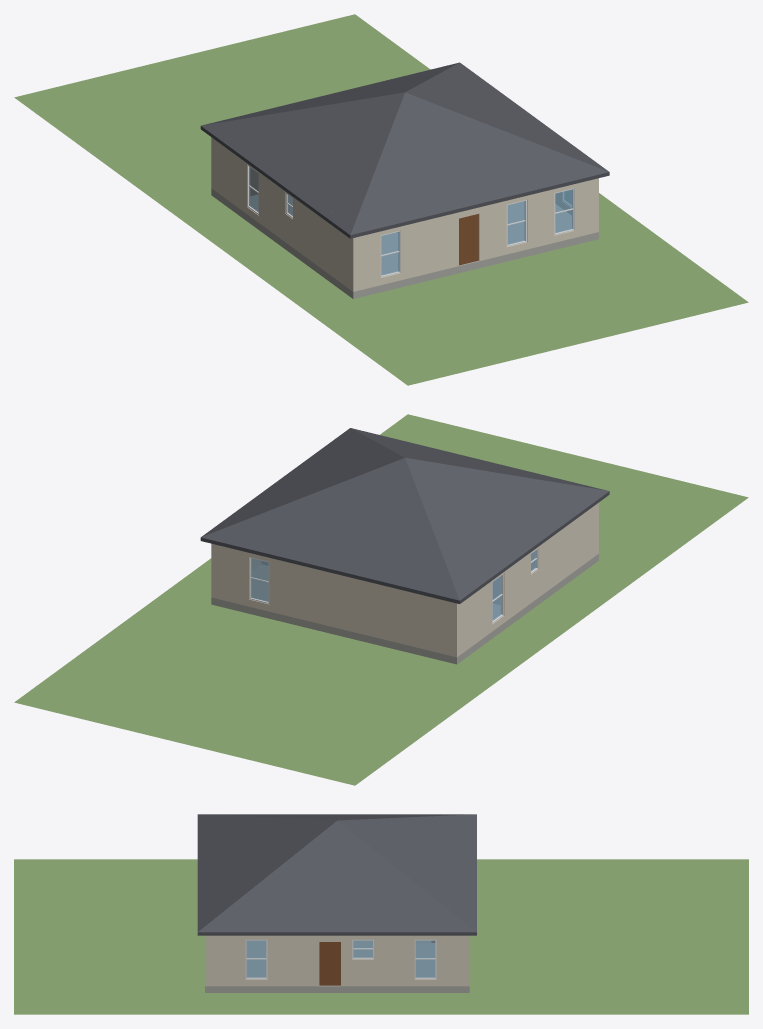
3 views of the same model, one above another, from view 1: azimuth 30°, elevation 25°; view 2: azimuth 150°, elevation 25°; view 3: azimuth 270°, elevation 25° (orthographic). The views are drawn at different scales.
Visible parts, largest first — view 1: SITE, ROOF, ext-front, ext-left, SLAB-L1, D01, N02, N01, N07; view 2: SITE, ROOF, ext-back, ext-left, SLAB-L1, N05; view 3: SITE, ROOF, ext-right, SLAB-L1, D02, N03, N06, N04.
Boxes of the visible parts, x1,y1,x2,y2 form: SITE: (14, 14, 748, 385); ROOF: (200, 62, 609, 238); ext-front: (351, 178, 598, 291); ext-left: (213, 139, 351, 290); SLAB-L1: (211, 188, 598, 298); D01: (459, 214, 478, 265); N02: (555, 189, 572, 233); N01: (507, 201, 524, 244); N07: (381, 232, 398, 275); SITE: (14, 414, 748, 785); ROOF: (200, 428, 609, 603); ext-back: (211, 543, 458, 657); ext-left: (459, 504, 596, 655); SLAB-L1: (211, 554, 598, 664); N05: (251, 558, 268, 601); SITE: (14, 859, 748, 1014); ROOF: (197, 814, 476, 935); ext-right: (208, 935, 465, 986); SLAB-L1: (205, 941, 469, 992); D02: (319, 942, 340, 985); N03: (246, 940, 266, 977); N06: (415, 940, 435, 977); N04: (353, 940, 372, 957).
Size of the model in its own units: 15.24 by 5.33 by 30.48.
